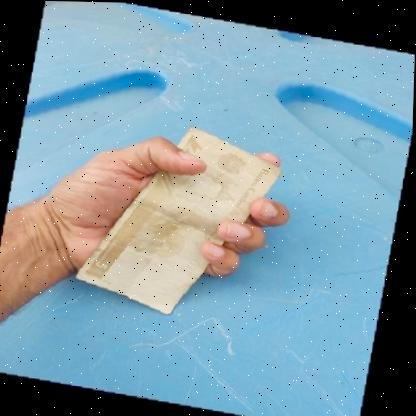five-back-vef: (74, 116, 287, 323)
